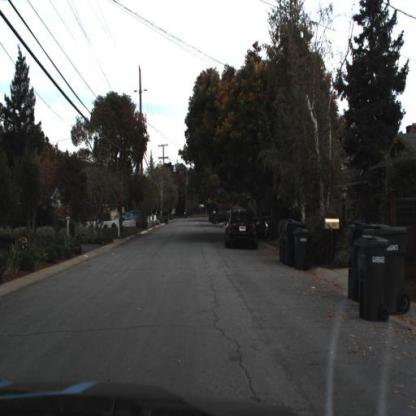car: (224, 210, 262, 252), (224, 210, 260, 246)
